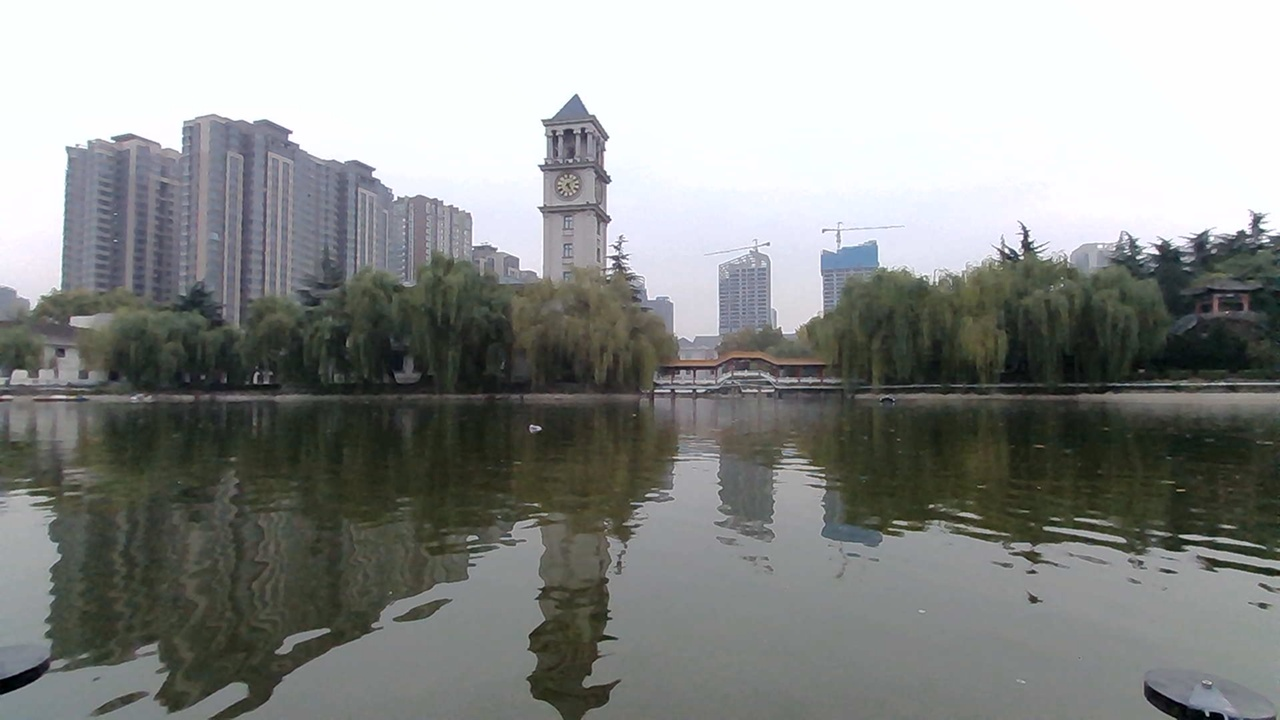bottle: (527, 413, 567, 441)
